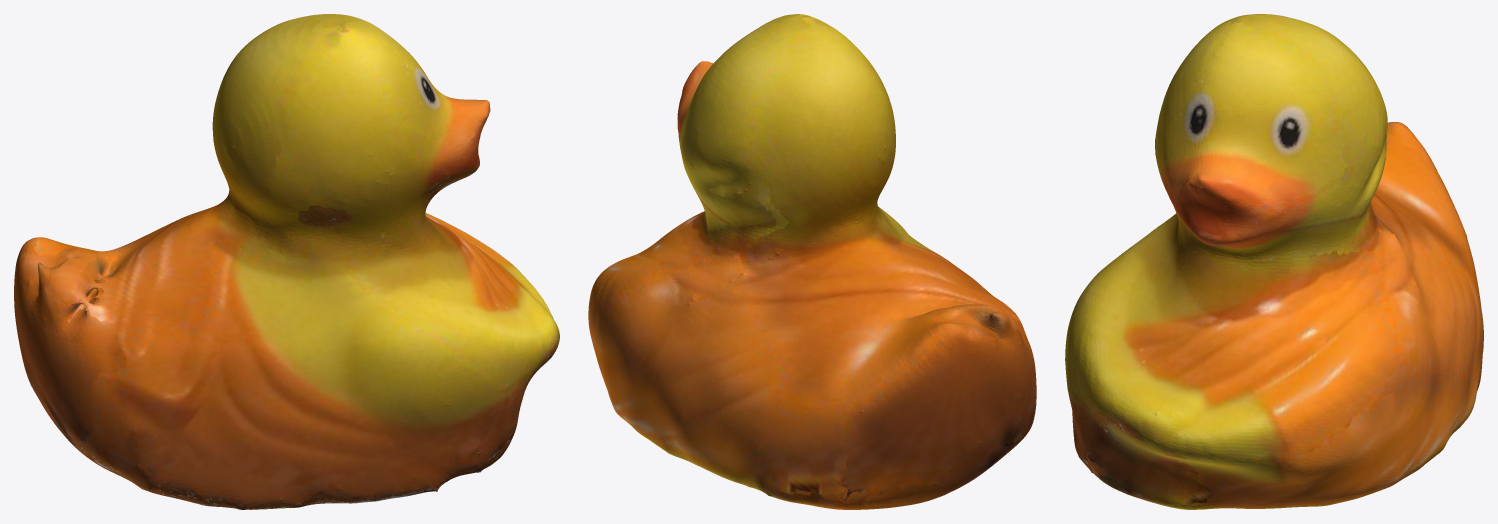
File: duck_fbx.fbx
3 views of the same model, side by side, from view 1: azimuth 30°, elevation 25°; view 2: azimuth 150°, elevation 25°; view 3: azimuth 270°, elevation 25° (orthographic). The views are drawn at different scales.
Visible parts, largest first — view 1: model_Rubber Duck_20171127_162402741; view 2: model_Rubber Duck_20171127_162402741; view 3: model_Rubber Duck_20171127_162402741.
Part boxes in pixels (box(x1,y1,x2,y2)): model_Rubber Duck_20171127_162402741: box(14, 14, 559, 509); model_Rubber Duck_20171127_162402741: box(588, 14, 1036, 509); model_Rubber Duck_20171127_162402741: box(1065, 14, 1483, 509).
Bounding box in the file's own units: 5994 × 5146 × 4573.
1 material, 1 textured.
